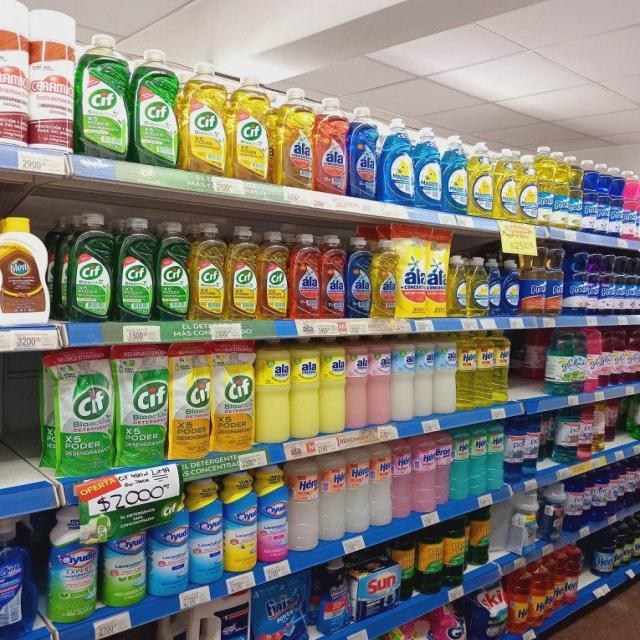ala_conc_amarillo: (276, 86, 313, 188), (372, 237, 396, 318)
ala_conc_azul: (348, 103, 379, 199), (0, 528, 27, 636), (346, 236, 371, 319)
ala_conc_rojo: (314, 96, 347, 194), (290, 231, 320, 320), (320, 234, 346, 319)
ala_crem_amarillo: (291, 337, 319, 439), (320, 336, 345, 434)
ala_crem_blanco: (392, 332, 414, 422), (434, 332, 456, 414), (415, 332, 433, 418)
ala_crem_rosado: (346, 336, 368, 430), (368, 333, 390, 427)
ala_sachet_amarillo: (398, 227, 424, 317), (426, 228, 448, 318)
cif_conc_bot_amarilla: (182, 61, 228, 174), (230, 71, 272, 181), (191, 220, 225, 320), (226, 224, 258, 320), (258, 230, 288, 320)
cif_conc_botella_verde: (77, 34, 130, 160), (61, 212, 113, 322), (132, 48, 178, 167), (116, 216, 154, 322), (156, 220, 190, 321)
cif_conc_sachet_amarillo: (170, 342, 212, 458), (212, 340, 255, 452)
cif_conc_sachet_verde: (53, 347, 113, 476), (116, 344, 168, 465)
heroe: (289, 456, 318, 552), (319, 452, 345, 541), (346, 447, 368, 533), (369, 442, 391, 526), (412, 435, 435, 513), (392, 438, 411, 518), (457, 330, 476, 410), (493, 327, 511, 404), (476, 328, 493, 407), (469, 426, 487, 496), (451, 429, 468, 500), (434, 432, 448, 506)
magistral_con_amarillo: (468, 140, 494, 217), (495, 147, 517, 220), (518, 151, 537, 223), (448, 255, 468, 317), (469, 256, 488, 316)
magistral_con_azul: (415, 125, 443, 209), (443, 133, 468, 214), (502, 257, 520, 316), (489, 257, 502, 316)
